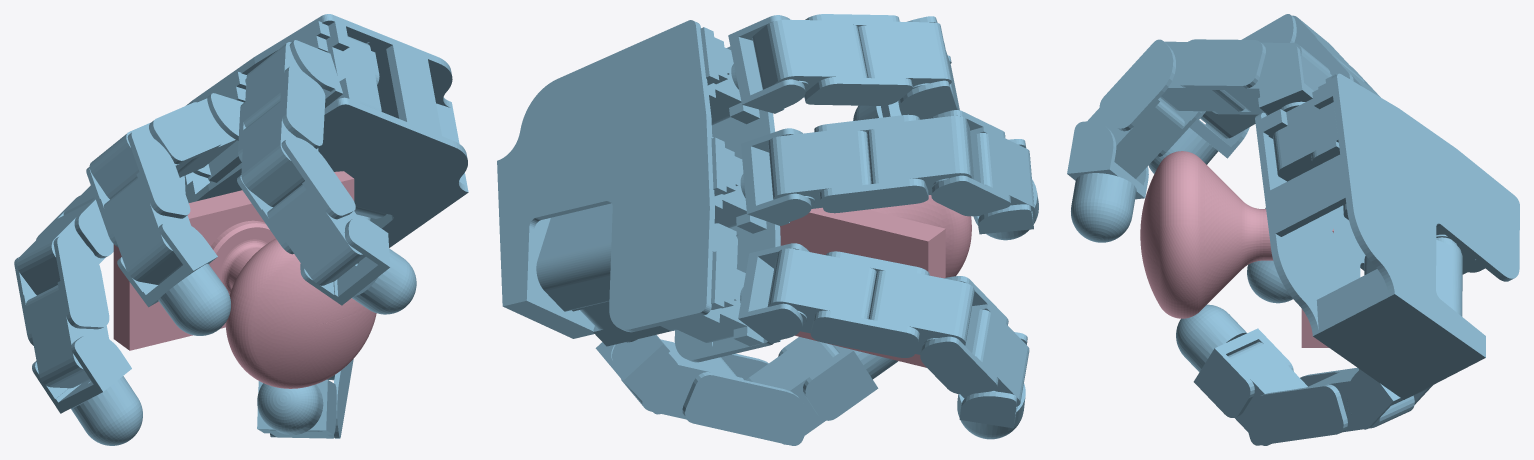
The picture shows the model from 3 angles, left to right: view 1: azimuth 30°, elevation 25°; view 2: azimuth 150°, elevation 25°; view 3: azimuth 270°, elevation 25°; orthographic projection. The views are drawn at different scales.
Visible parts, largest first — view 1: world, door_knob.stl; view 2: world, door_knob.stl; view 3: world, door_knob.stl.
Part boxes in pixels (x1=…): world: x1=14, y1=14, x2=468, y2=445; door_knob.stl: x1=113, y1=171, x2=376, y2=388; world: x1=497, y1=14, x2=1038, y2=445; door_knob.stl: x1=780, y1=195, x2=971, y2=367; world: x1=1067, y1=14, x2=1519, y2=445; door_knob.stl: x1=1140, y1=151, x2=1333, y2=347.
Size of the model in its own units: 0.2006 by 0.1674 by 0.1756.
